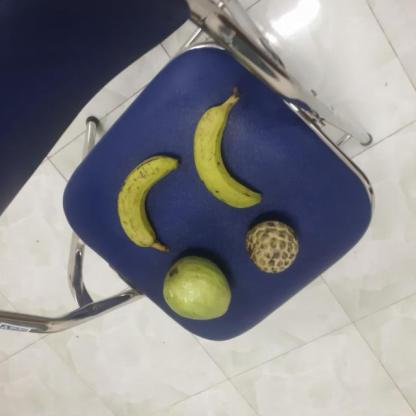annona: (247, 220, 302, 274)
banana: (194, 100, 266, 210), (117, 157, 184, 251)
guava: (162, 253, 235, 320)
